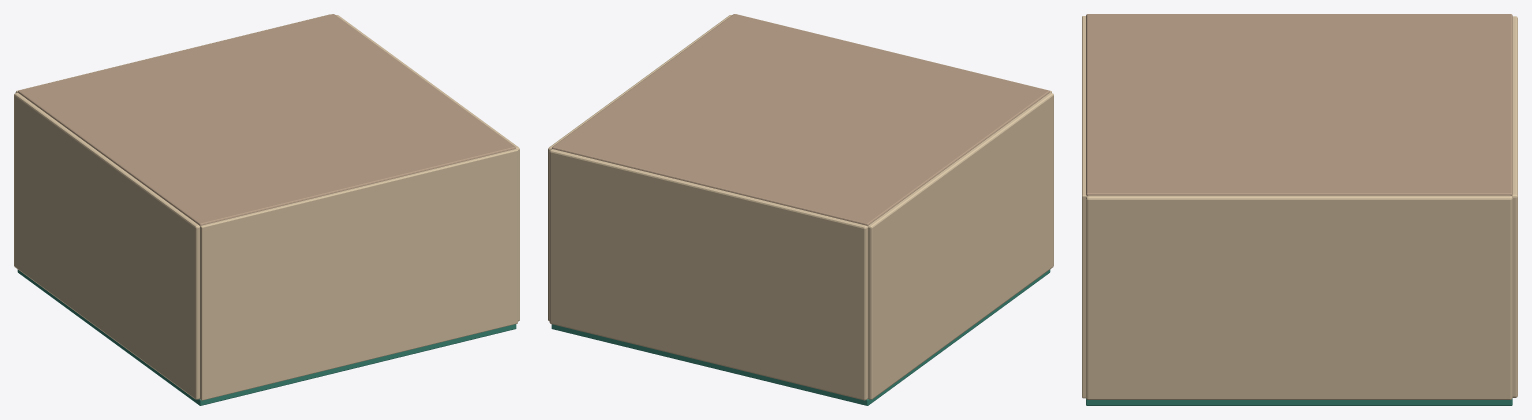
The model's file is apartment_lobby_a.glb.
The picture shows the model from 3 angles, left to right: view 1: azimuth 30°, elevation 25°; view 2: azimuth 150°, elevation 25°; view 3: azimuth 270°, elevation 25°; orthographic projection. The views are drawn at different scales.
Visible parts, largest first — view 1: LobbyCeiling, CUTAWAY_FRONT, LobbyWallLeft, LobbyFloor, LobbyWallRight; view 2: LobbyCeiling, LobbyBackWall, LobbyWallLeft, LobbyFloor, LobbyWallRight; view 3: LobbyWallRight, LobbyCeiling, LobbyFloor, LobbyBackWall, CUTAWAY_FRONT.
Part boxes in pixels (x1,y1,x2,y2): LobbyCeiling: [17, 14, 515, 225]; CUTAWAY_FRONT: [200, 149, 517, 400]; LobbyWallLeft: [14, 92, 199, 399]; LobbyFloor: [17, 269, 516, 405]; LobbyWallRight: [336, 15, 519, 321]; LobbyCeiling: [551, 14, 1049, 225]; LobbyBackWall: [549, 149, 867, 400]; LobbyWallLeft: [867, 92, 1053, 399]; LobbyFloor: [551, 269, 1050, 405]; LobbyWallRight: [548, 15, 731, 321]; LobbyWallRight: [1086, 195, 1512, 399]; LobbyCeiling: [1086, 14, 1512, 195]; LobbyFloor: [1086, 398, 1512, 405]; LobbyBackWall: [1512, 16, 1517, 397]; CUTAWAY_FRONT: [1082, 16, 1086, 398].
Size of what is drawn, in the model's own units: 8.2 by 4.4 by 8.18.
